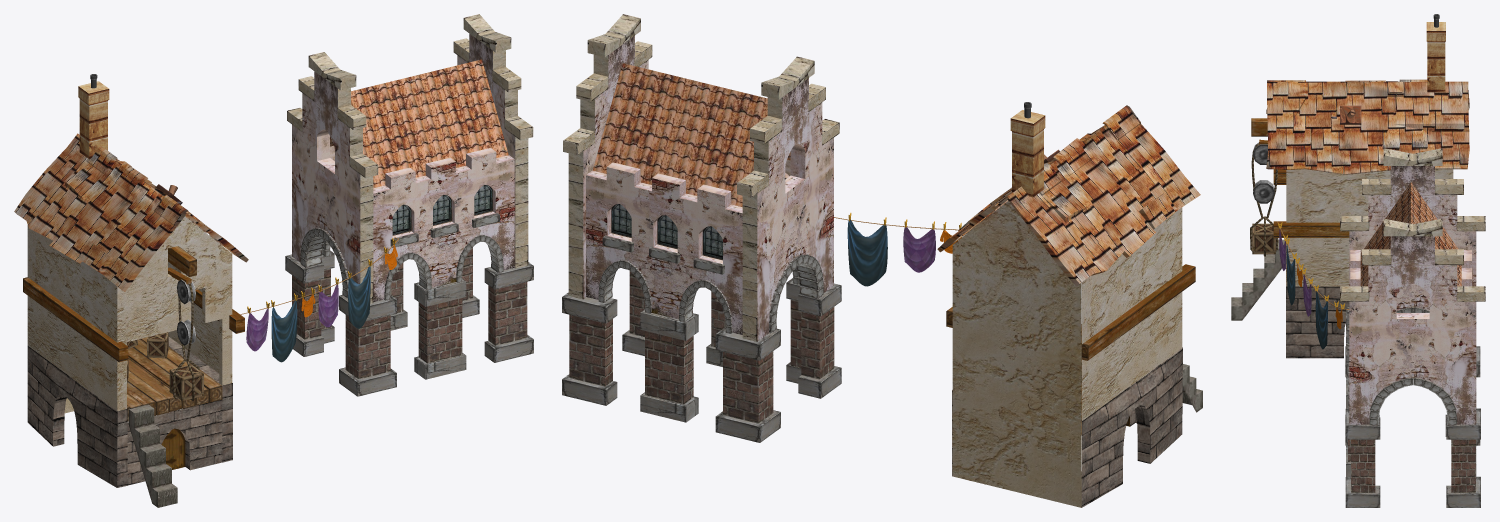
Rendered from building6.FBX.
3 renders of one model, left to right at view 1: azimuth 30°, elevation 25°; view 2: azimuth 150°, elevation 25°; view 3: azimuth 270°, elevation 25°, orthographic. The views are drawn at different scales.
Parts seen in each view (by area): view 1: Object007, Rectangle013, Object010; view 2: Object007, Rectangle013, Object010; view 3: Object007, Rectangle013, Object010.
Boxes of the visible parts, x1,y1,x2,y2 form: Object007: [285, 14, 533, 396]; Rectangle013: [14, 74, 248, 507]; Object010: [240, 237, 399, 362]; Object007: [562, 14, 841, 442]; Rectangle013: [937, 102, 1202, 507]; Object010: [834, 212, 961, 286]; Object007: [1340, 148, 1485, 507]; Rectangle013: [1231, 14, 1469, 358]; Object010: [1277, 221, 1349, 349].
Bounding box in the file's own units: 558 × 396 × 288.
